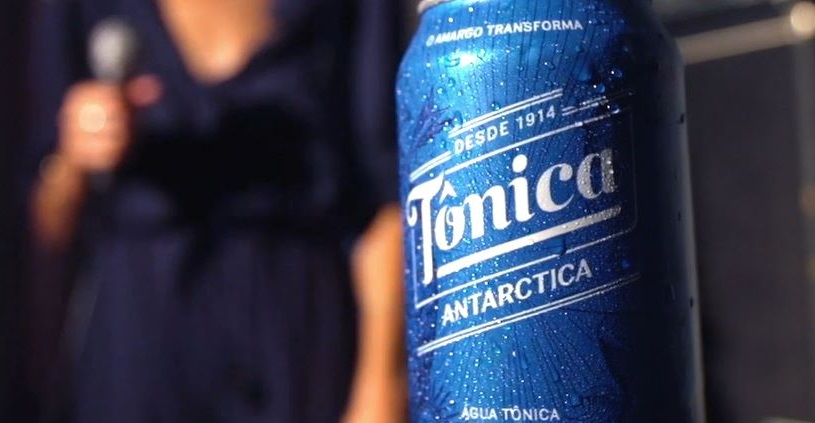tonica: (394, 2, 697, 423)
